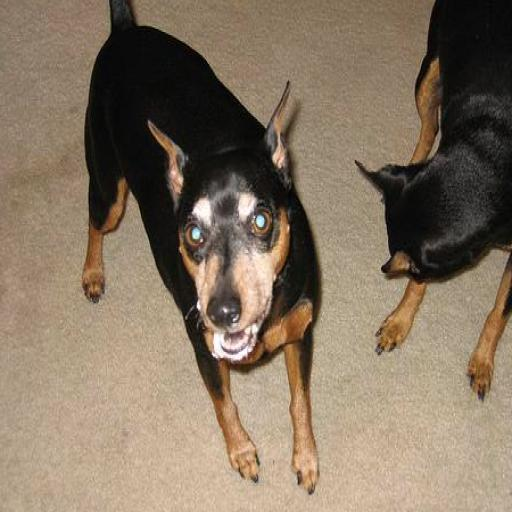dog_face: (150, 96, 307, 369)
